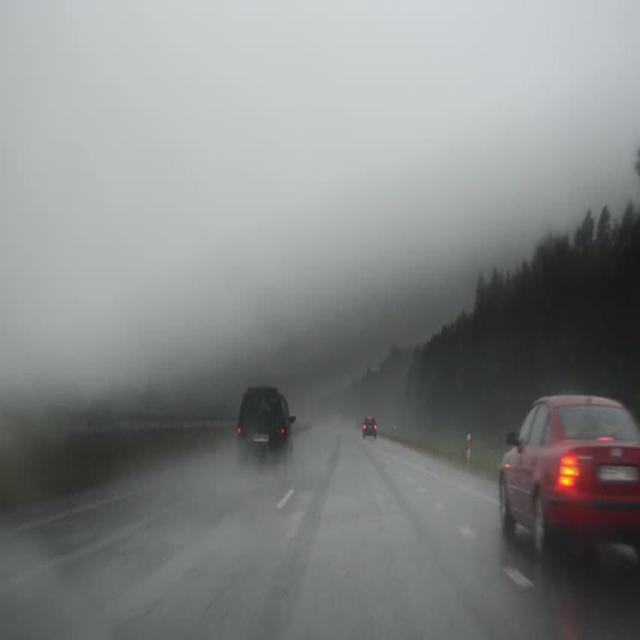car: (495, 393, 639, 573), (234, 387, 296, 457), (360, 414, 378, 439)
